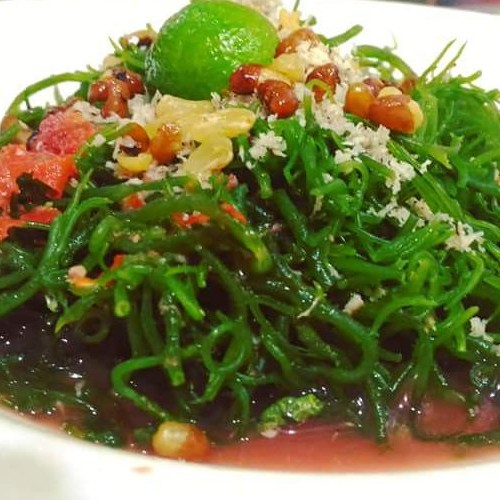bulung buni: (25, 28, 471, 441)
